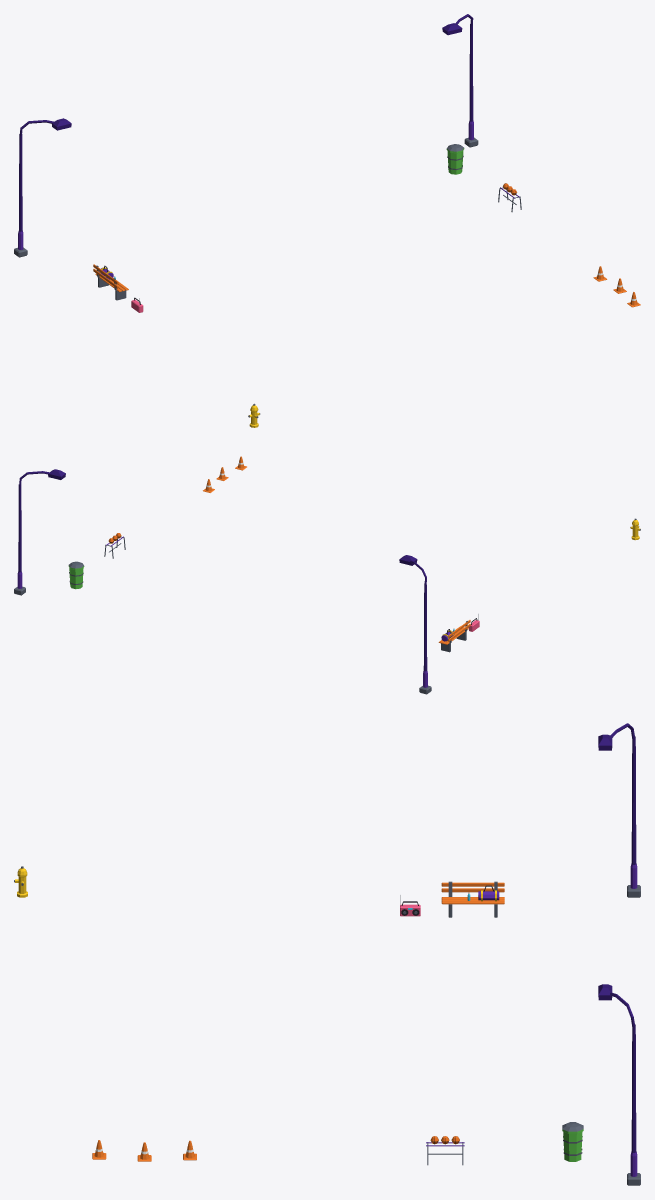
Rendered from sb-props.glb.
3 views of the same model, one above another, from view 1: azimuth 30°, elevation 25°; view 2: azimuth 150°, elevation 25°; view 3: azimuth 270°, elevation 25° (orthographic). The views are drawn at different scales.
Parts seen in each view (by area): view 1: Lamp.001, Lamp.000; view 2: Lamp.000, Lamp.001, Bench, TrashCan; view 3: Lamp.000, Lamp.001, Bench, TrashCan.
Part boxes in pixels (left/top/right/bottom): Lamp.001: left=14, top=118, right=71, bottom=257; Lamp.000: left=442, top=14, right=478, bottom=147; Lamp.000: left=14, top=469, right=65, bottom=595; Lamp.001: left=399, top=555, right=431, bottom=694; Bench: left=438, top=620, right=470, bottom=652; TrashCan: left=68, top=561, right=84, bottom=589; Lamp.000: left=598, top=984, right=640, bottom=1185; Lamp.001: left=598, top=723, right=640, bottom=897; Bench: left=441, top=881, right=504, bottom=917; TrashCan: left=562, top=1122, right=583, bottom=1161.
Size of the model in its own units: 19.94 by 5.62 by 17.94.
